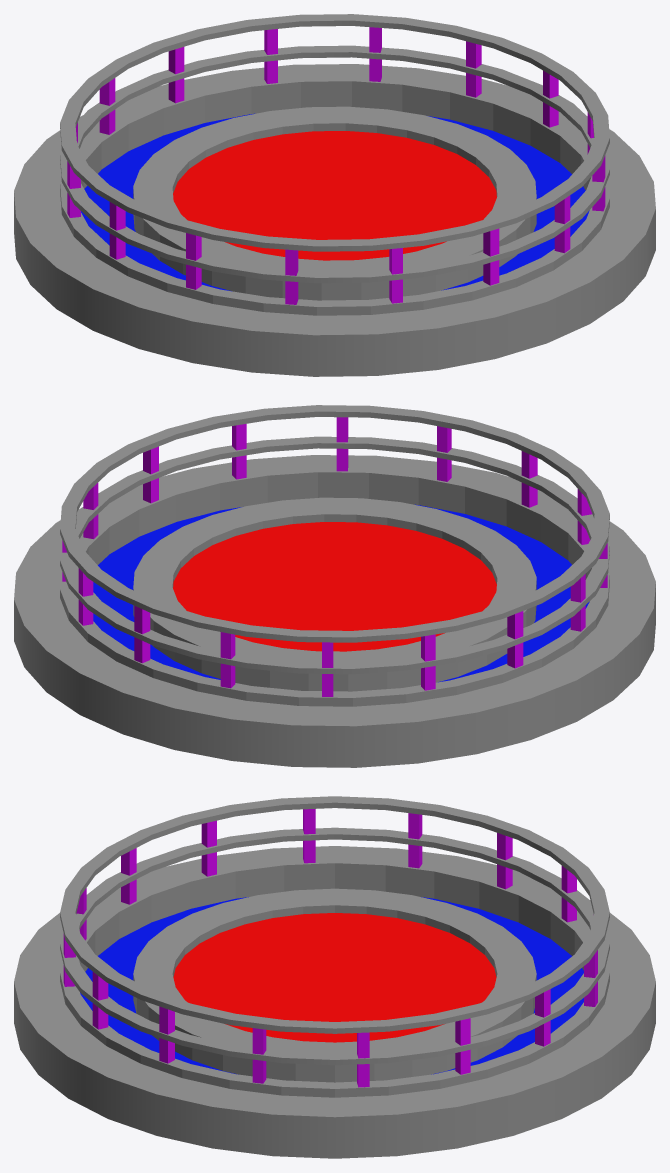
Rendered from SM_ caotai_01.fbx.
The picture shows the model from 3 angles, top to bottom: view 1: azimuth 30°, elevation 25°; view 2: azimuth 150°, elevation 25°; view 3: azimuth 270°, elevation 25°; orthographic projection.
Parts seen in each view (by area): view 1: SM_ caotai_01; view 2: SM_ caotai_01; view 3: SM_ caotai_01.
Part boxes in pixels (box(x1,y1,x2,y2)): SM_ caotai_01: box(14, 14, 655, 376); SM_ caotai_01: box(14, 405, 655, 767); SM_ caotai_01: box(14, 796, 655, 1158).
Size of the model in its own units: 7000 by 1332 by 7000.
